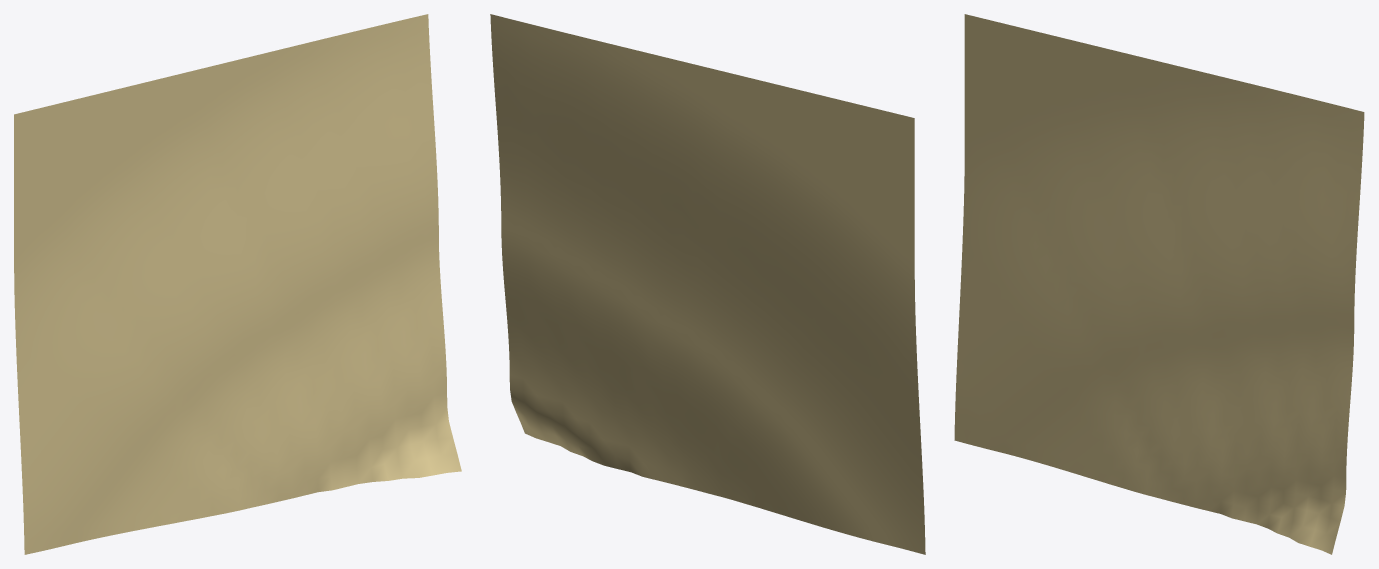
The model's file is island_terrain_07_10.obj.
3 views of the same model, side by side, from view 1: azimuth 30°, elevation 25°; view 2: azimuth 150°, elevation 25°; view 3: azimuth 330°, elevation 25° (orthographic). The views are drawn at different scales.
Parts seen in each view (by area): view 1: island_terrain_07_10; view 2: island_terrain_07_10; view 3: island_terrain_07_10.
Boxes of the visible parts, box(x1,y1,x2,y2) form: island_terrain_07_10: box(14, 14, 461, 554); island_terrain_07_10: box(490, 14, 925, 554); island_terrain_07_10: box(954, 14, 1364, 554).
Bounding box in the file's own units: 256 × 256 × 36.67.
